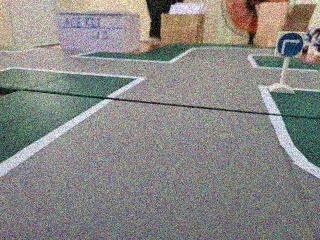right: (269, 28, 305, 60)
